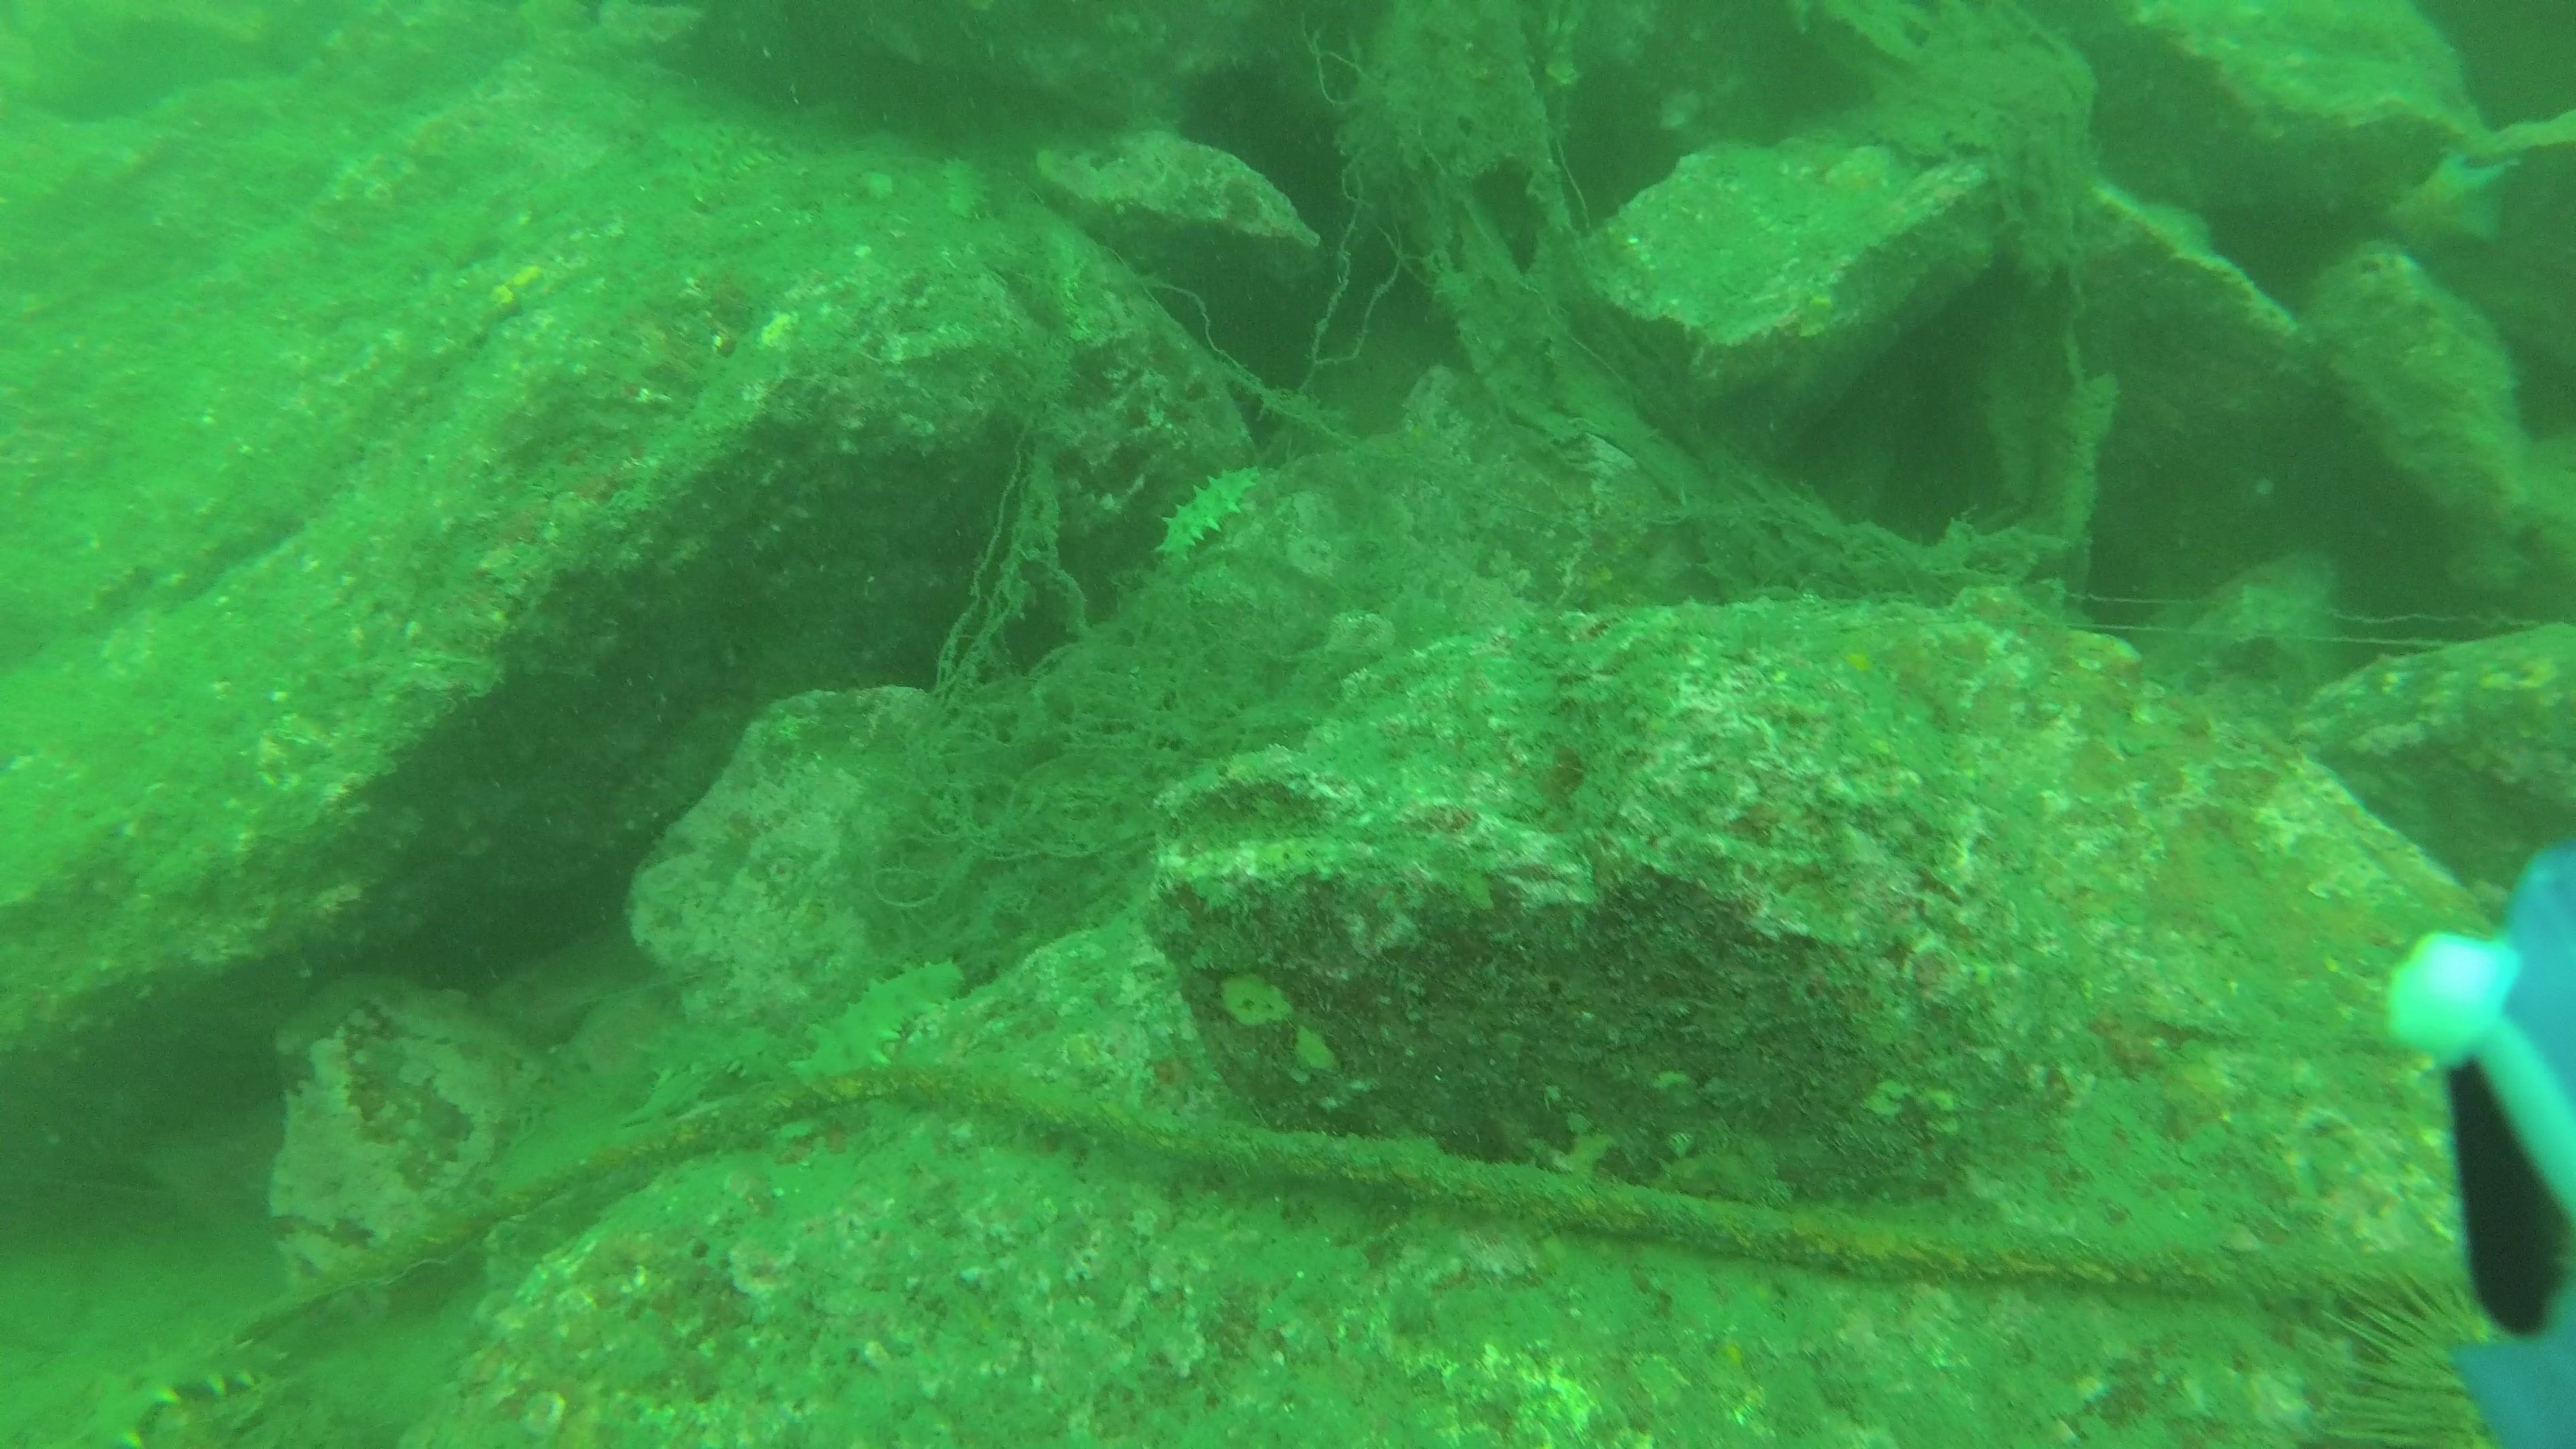echinus: (2304, 1269, 2509, 1449)
holothurian: (85, 1323, 297, 1449), (786, 952, 971, 1095), (1139, 460, 1265, 570)
starfish: (2385, 147, 2525, 262)
